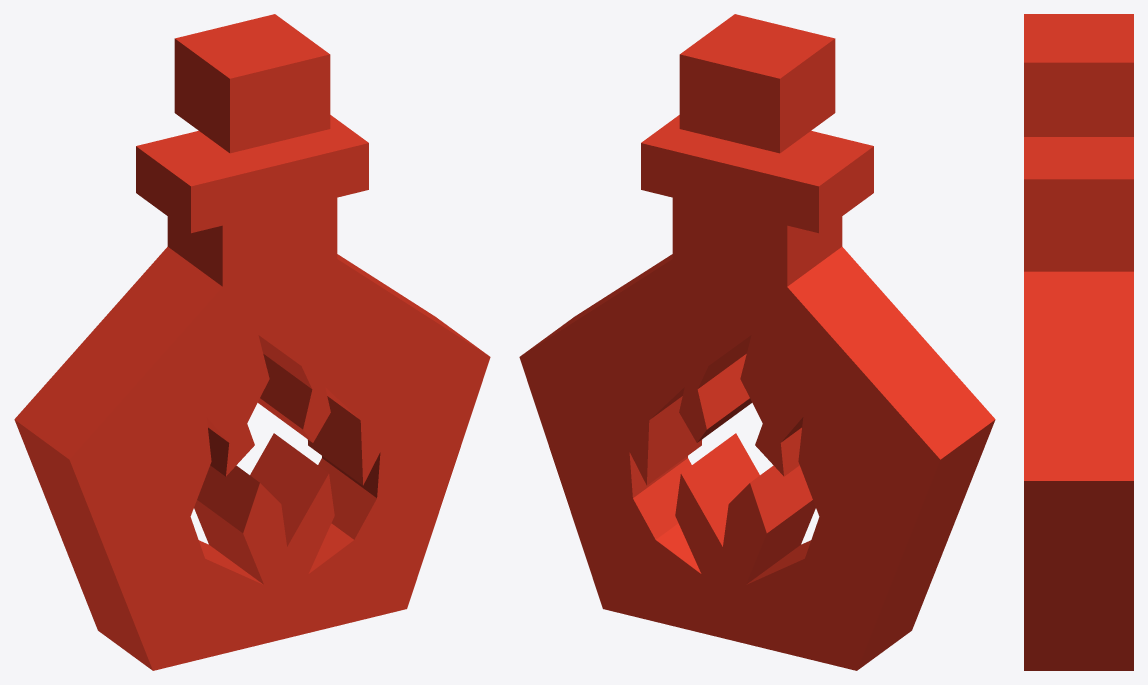
File: Icon_Potion_05.fbx
3 views of the same model, side by side, from view 1: azimuth 30°, elevation 25°; view 2: azimuth 150°, elevation 25°; view 3: azimuth 270°, elevation 25° (orthographic).
Visible parts, largest first — view 1: Icon_Potion_05; view 2: Icon_Potion_05; view 3: Icon_Potion_05.
Boxes of the visible parts, x1,y1,x2,y2 form: Icon_Potion_05: (14, 14, 490, 670); Icon_Potion_05: (519, 14, 995, 670); Icon_Potion_05: (1024, 14, 1133, 670).
Bounding box in the file's own units: 53.2 × 69.22 × 12.06.
